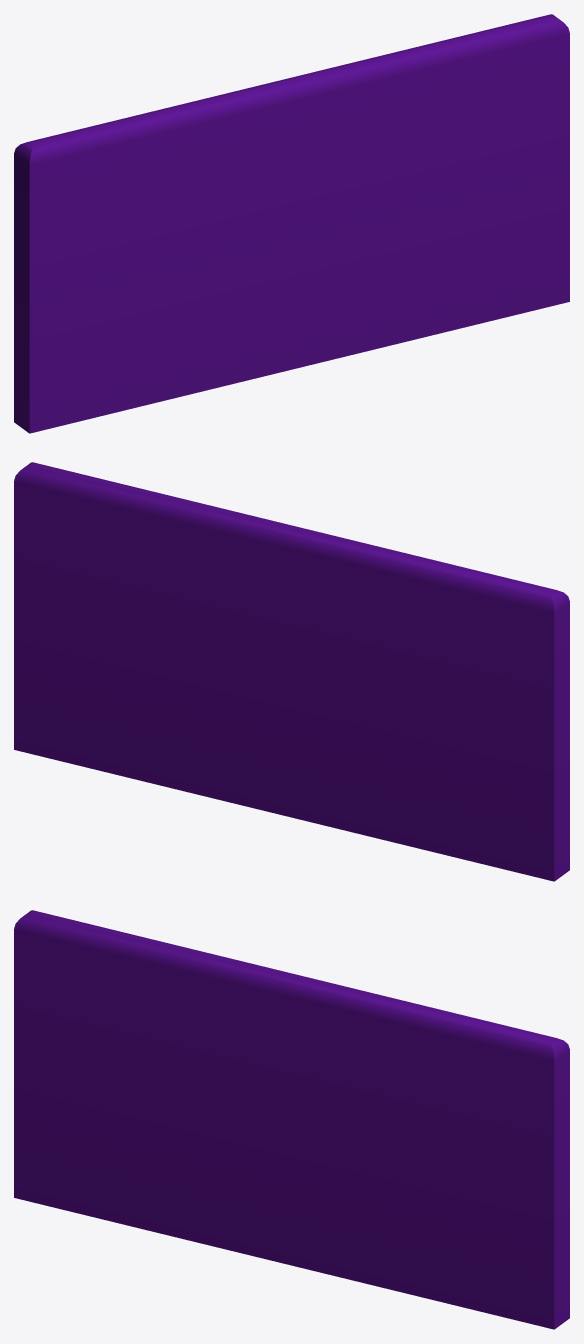
The model's file is base_wall_big.fbx.
3 views of the same model, one above another, from view 1: azimuth 30°, elevation 25°; view 2: azimuth 150°, elevation 25°; view 3: azimuth 330°, elevation 25° (orthographic).
Visible parts, largest first — view 1: Cube.006; view 2: Cube.006; view 3: Cube.006.
Part boxes in pixels (x1,y1,x2,y2): Cube.006: (14, 14, 569, 433); Cube.006: (14, 462, 569, 881); Cube.006: (14, 910, 569, 1329).
Bounding box in the file's own units: 40 × 20 × 2.
